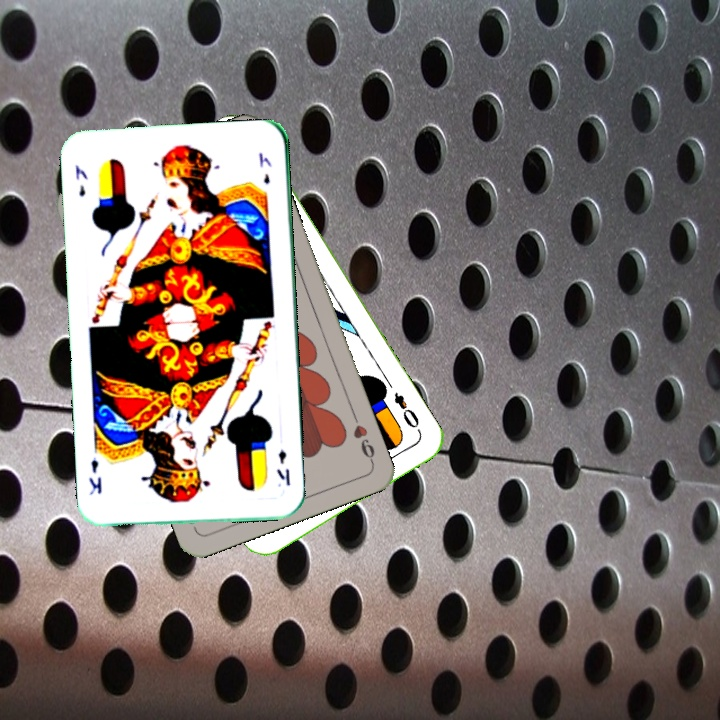EK: (272, 446, 293, 488), (71, 161, 90, 199)
EO: (389, 388, 422, 431)
H9: (348, 409, 377, 466)
